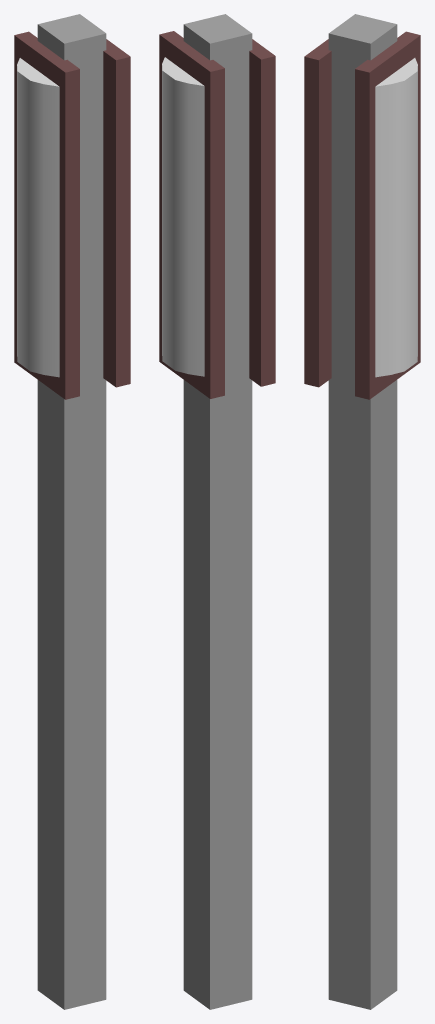
The model's file is light_01.fbx.
3 renders of one model, left to right at view 1: azimuth 30°, elevation 25°; view 2: azimuth 210°, elevation 25°; view 3: azimuth 330°, elevation 25°, orthographic.
Visible parts, largest first — view 1: pCube81; view 2: pCube81; view 3: pCube81.
Part boxes in pixels (x1,y1,x2,y2): pCube81: [14, 14, 130, 1009]; pCube81: [159, 14, 275, 1009]; pCube81: [304, 14, 420, 1009].
Bounding box in the file's own units: 0.6111 × 5.81 × 0.5582.
